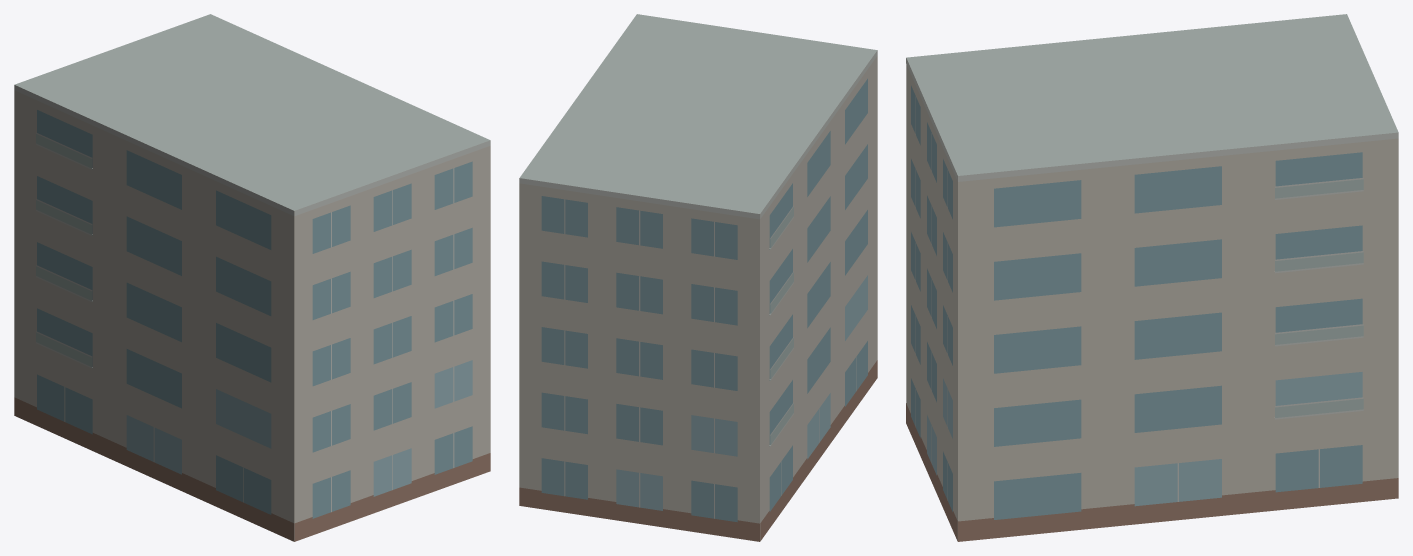
Rendered from survey-upis-32585409.glb.
3 renders of one model, left to right at view 1: azimuth 30°, elevation 25°; view 2: azimuth 150°, elevation 25°; view 3: azimuth 270°, elevation 25°, orthographic. The views are drawn at different scales.
Visible parts, largest first — view 1: survey-upis-32585409.tmp; view 2: survey-upis-32585409.tmp; view 3: survey-upis-32585409.tmp.
Part boxes in pixels (x1=…): survey-upis-32585409.tmp: x1=14, y1=14, x2=490, y2=541; survey-upis-32585409.tmp: x1=519, y1=14, x2=877, y2=541; survey-upis-32585409.tmp: x1=906, y1=14, x2=1398, y2=541.
Bounding box in the file's own units: 14.21 × 14.95 × 18.25.
